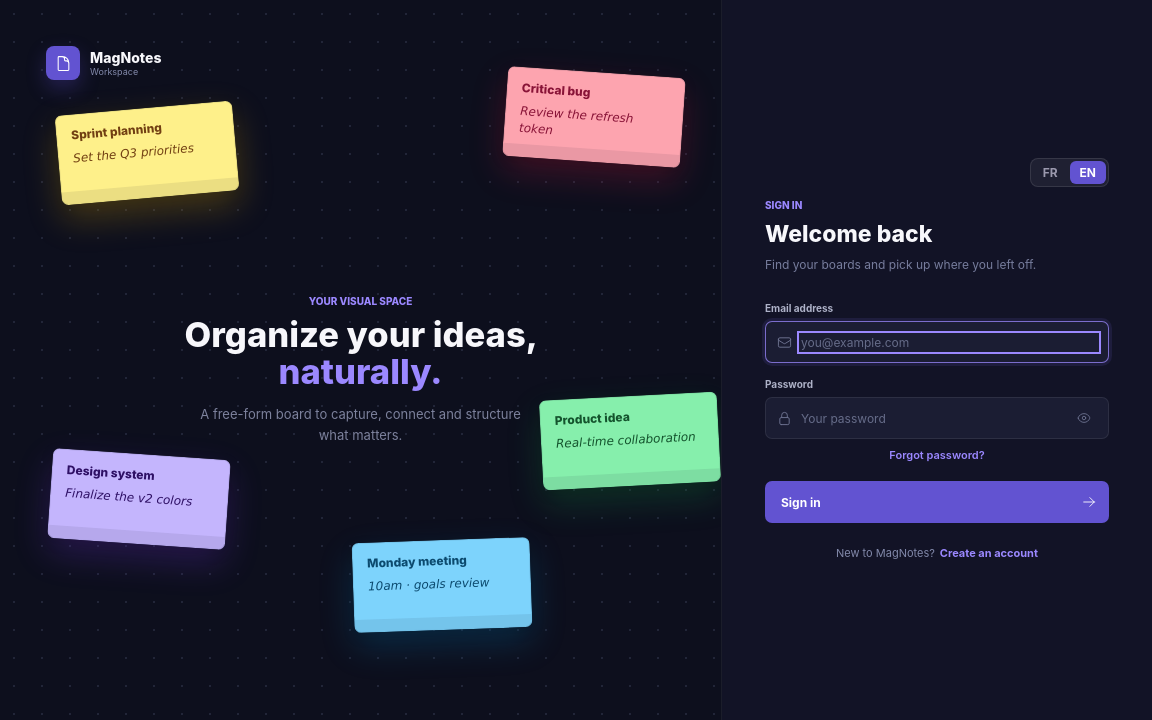
Scenario: LoginForm analytics › localizes a legacy French API authentication error
Type "user@example.com" into the field with id "email" at (949, 342), box 801,335 -> 1097,350
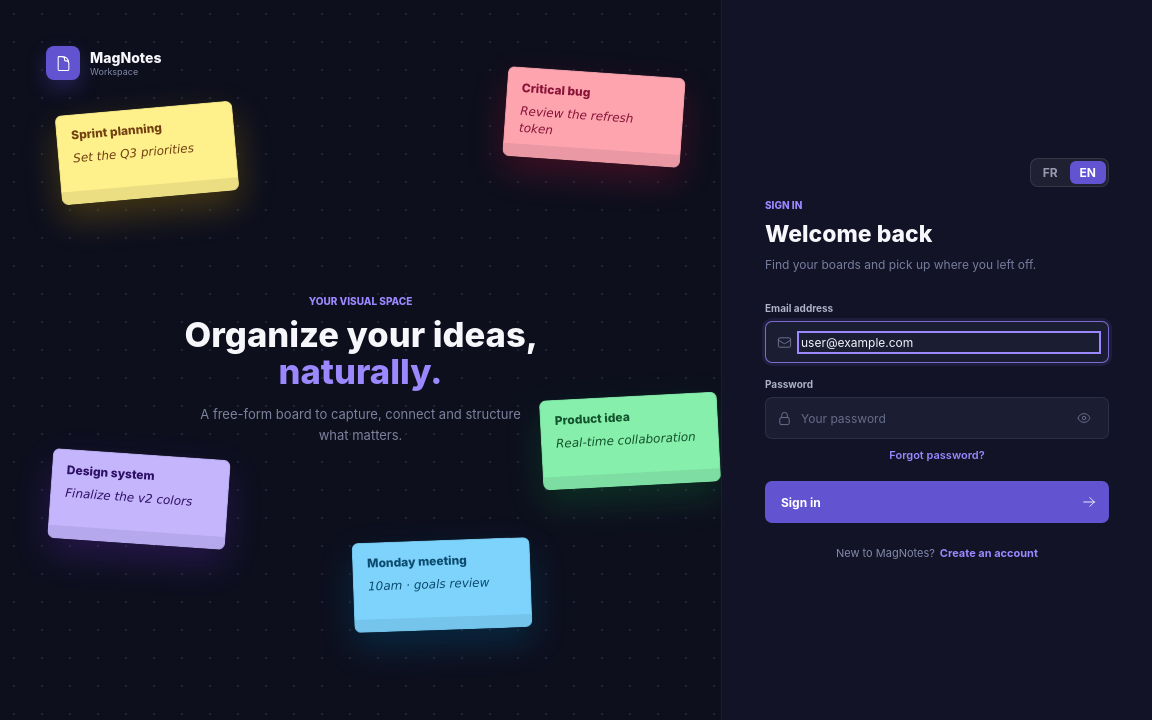
Type "invalid-password" into the password field labelled "Password" at (932, 418), box 801,411 -> 1062,426
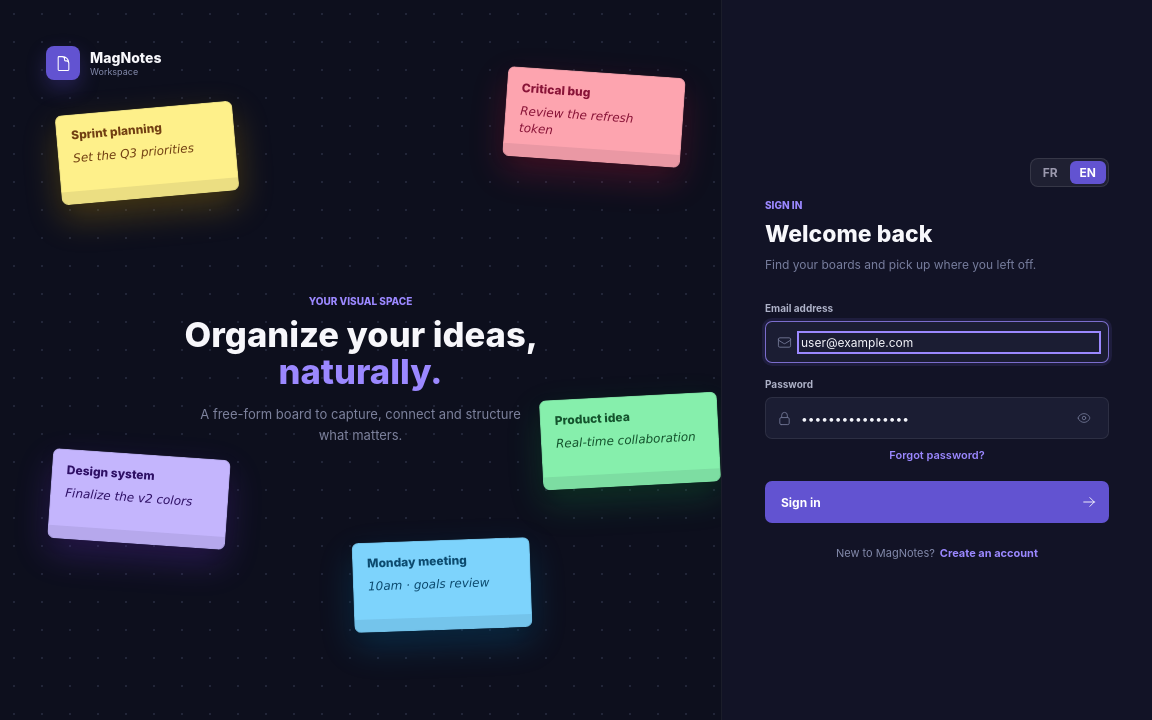
Click the button "Sign in" at (801, 502), box 765,482 -> 1109,524
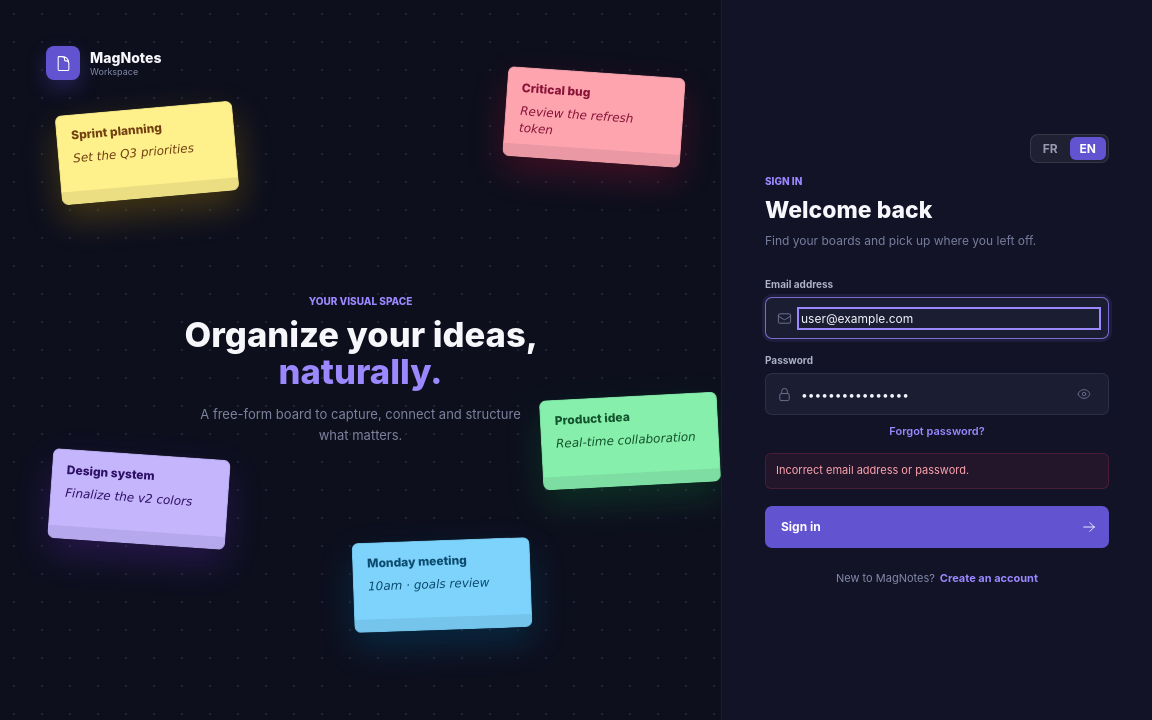
Check: the message reads "Incorrect email address or password.", box 776,463 -> 969,477
